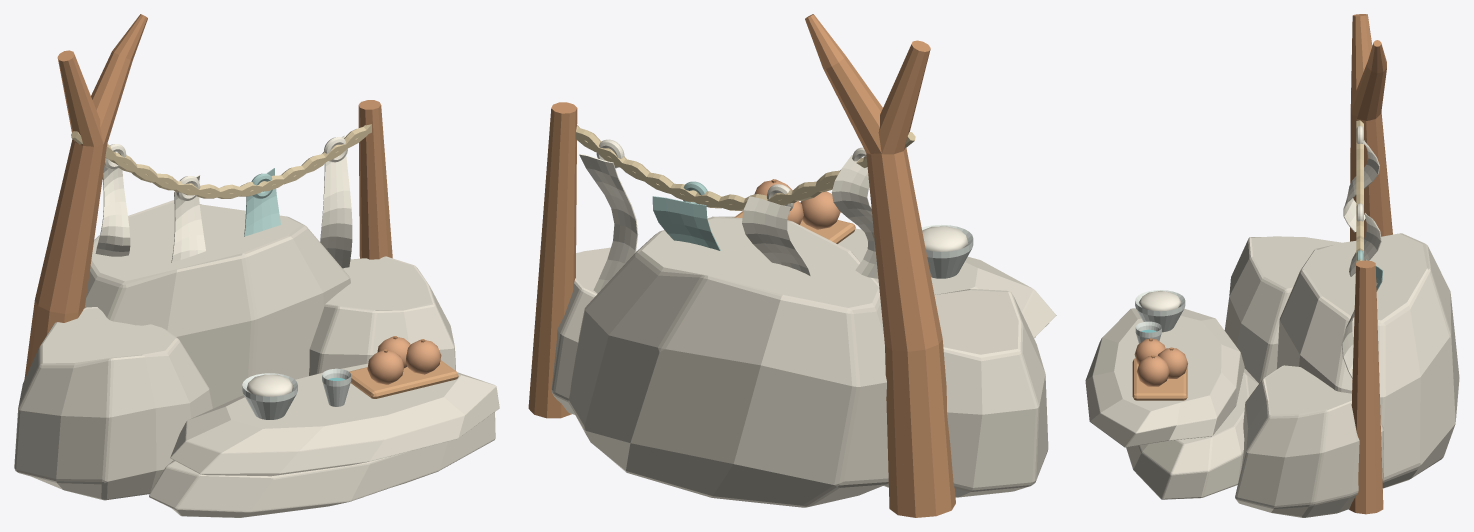
The model's file is Test_CheonRef_OutdoorAltar.fbx.
3 views of the same model, side by side, from view 1: azimuth 30°, elevation 25°; view 2: azimuth 150°, elevation 25°; view 3: azimuth 270°, elevation 25° (orthographic). The views are drawn at different scales.
Parts seen in each view (by area): view 1: OpenAltarStone, OpenAltarStone.001, BroadFrontOfferingSlab, OpenAltarStone.003, AltarForkedTree, OpenAltarStone.002, AltarShortRopePost, WishSilk_3.001, AltarTreeFork, WishSilk_0.001, MainSwayingRope_Twist1.001, MainSwayingRope_Twist0.001 (+8 smaller); view 2: OpenAltarStone, AltarForkedTree, OpenAltarStone.001, AltarShortRopePost, AltarTreeFork, BroadFrontOfferingSlab, OpenAltarStone.002, WishSilk_3.001, WishSilk_1.001, WishSilk_0.001, MainSwayingRope_Twist1.001, WishSilk_2.001 (+5 smaller); view 3: OpenAltarStone, OpenAltarStone.002, BroadFrontOfferingSlab, OpenAltarStone.001, OpenAltarStone.003, AltarShortRopePost, AltarForkedTree, AltarTreeFork, OfferingWoodenTray, WishSilk_0.001, CeramicRiceBowl, OfferingPersimmon.001 (+7 smaller).
Boxes of the visible parts, left/top/right/bottom form: OpenAltarStone: left=84, top=200, right=350, bottom=408; OpenAltarStone.001: left=14, top=307, right=213, bottom=500; BroadFrontOfferingSlab: left=170, top=363, right=499, bottom=476; OpenAltarStone.003: left=149, top=412, right=495, bottom=517; AltarForkedTree: left=24, top=50, right=107, bottom=379; OpenAltarStone.002: left=309, top=256, right=455, bottom=375; AltarShortRopePost: left=358, top=100, right=392, bottom=259; WishSilk_3.001: left=320, top=135, right=352, bottom=268; AltarTreeFork: left=91, top=14, right=147, bottom=144; WishSilk_0.001: left=95, top=150, right=130, bottom=256; MainSwayingRope_Twist1.001: left=71, top=127, right=371, bottom=198; MainSwayingRope_Twist0.001: left=105, top=124, right=371, bottom=198; OpenAltarStone: left=568, top=216, right=888, bottom=507; AltarForkedTree: left=866, top=40, right=955, bottom=517; OpenAltarStone.001: left=883, top=289, right=1048, bottom=497; AltarShortRopePost: left=528, top=102, right=577, bottom=418; AltarTreeFork: left=805, top=14, right=882, bottom=154; BroadFrontOfferingSlab: left=712, top=216, right=1056, bottom=338; OpenAltarStone.002: left=551, top=247, right=636, bottom=414; WishSilk_3.001: left=579, top=153, right=638, bottom=293; WishSilk_1.001: left=742, top=196, right=811, bottom=276; WishSilk_0.001: left=831, top=155, right=878, bottom=278; MainSwayingRope_Twist1.001: left=575, top=128, right=915, bottom=208; WishSilk_2.001: left=652, top=196, right=720, bottom=250; OpenAltarStone: left=1276, top=233, right=1459, bottom=488; OpenAltarStone.002: left=1235, top=365, right=1383, bottom=517; BroadFrontOfferingSlab: left=1085, top=308, right=1244, bottom=447; OpenAltarStone.001: left=1224, top=236, right=1341, bottom=383; OpenAltarStone.003: left=1126, top=368, right=1258, bottom=499; AltarShortRopePost: left=1349, top=260, right=1383, bottom=514; AltarForkedTree: left=1350, top=14, right=1392, bottom=241; AltarTreeFork: left=1351, top=40, right=1386, bottom=120; OfferingWoodenTray: left=1132, top=358, right=1187, bottom=400; WishSilk_0.001: left=1343, top=140, right=1379, bottom=232; CeramicRiceBowl: left=1135, top=290, right=1185, bottom=332; OfferingPersimmon.001: left=1137, top=356, right=1169, bottom=386.
Bounding box in the file's own units: 391 × 354 × 327.
